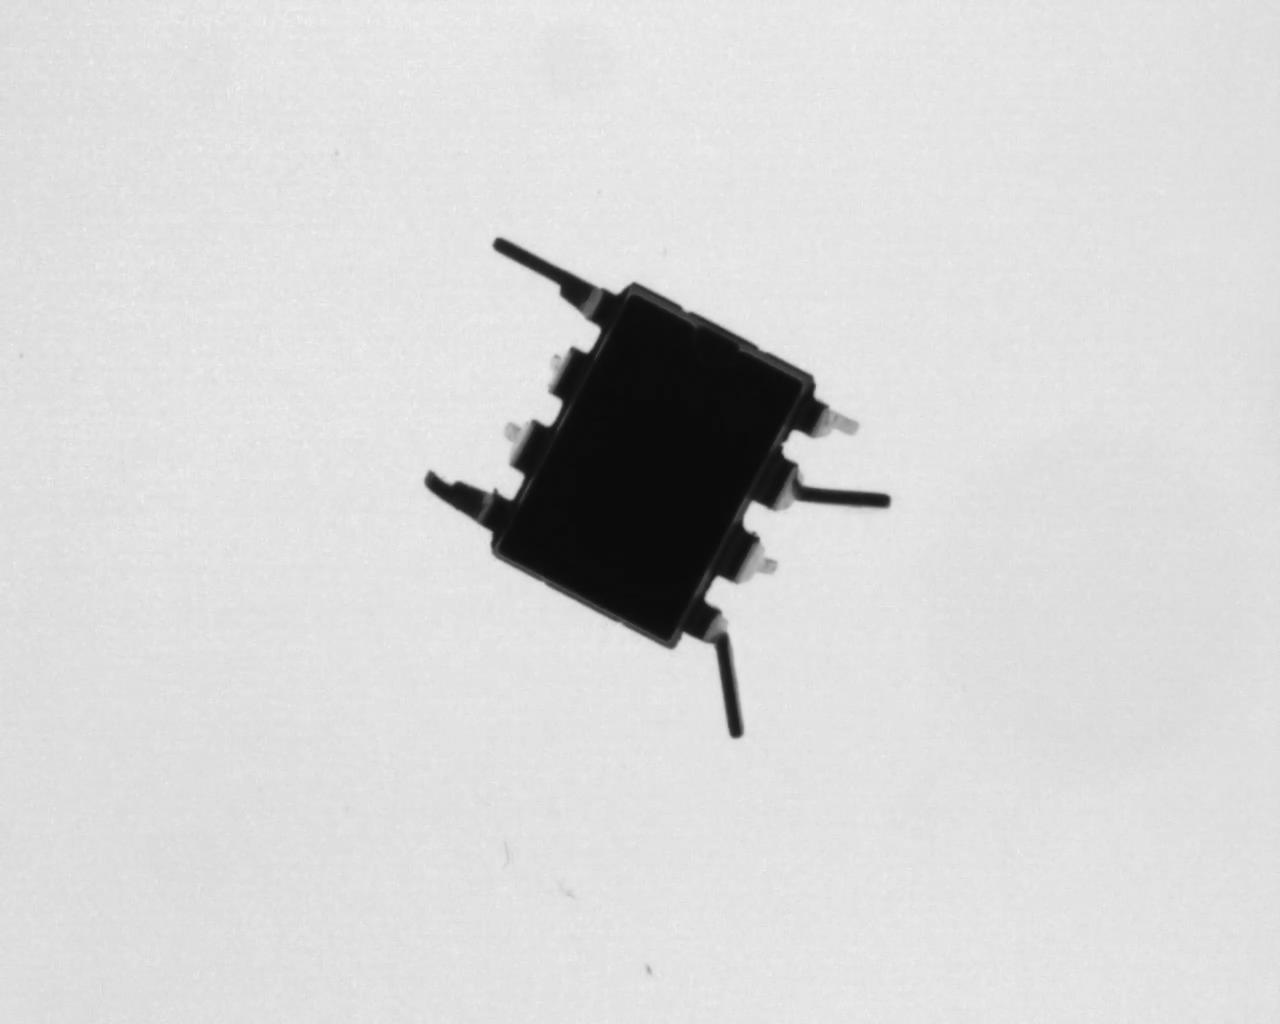Leg: (491, 237, 619, 323), (746, 445, 897, 511), (683, 594, 744, 741), (424, 467, 513, 534), (791, 390, 861, 440), (721, 525, 778, 585), (503, 414, 554, 474), (548, 343, 587, 403)
